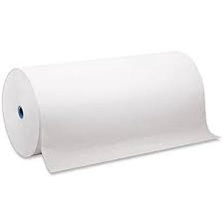tissue: (0, 43, 224, 177)
